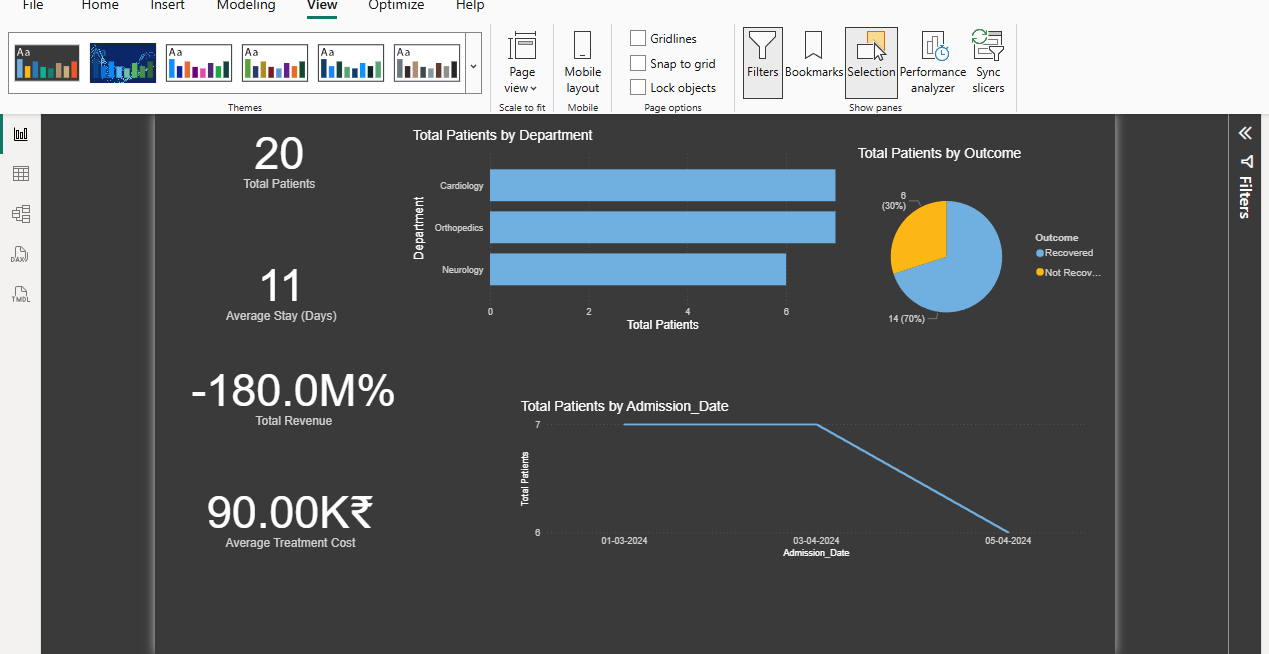

This screenshot's page, from the dashboard's own definition file:
{"tool":"powerbi","page":{"name":"Page 1","canvas":[1280,720],"ordinal":0},"visuals":[{"type":"card","fields":{"Values":["Sheet1.Total Patients"]},"box":[10.6,0,309.9,112.7],"z":0},{"type":"card","fields":{"Values":["Sheet1.Total Revenue"]},"box":[24.6,316.9,322.2,109.2],"z":1},{"type":"card","fields":{"Values":["Sheet1.Average Stay (Days)"]},"box":[10.6,179.6,315.2,103.9],"z":3},{"type":"card","fields":{"Values":["Sheet1.Average Treatment Cost"]},"box":[24.6,471.9,313.4,125],"z":4},{"type":"clusteredBarChart","fields":{"Category":["Sheet1.Department"],"Y":["Sheet1.Total Patients"]},"box":[338.4,17.1,577.6,276.8],"z":5},{"type":"pieChart","fields":{"Category":["Sheet1.Outcome"],"Y":["Sheet1.Total Patients"]},"box":[931.4,41,348.6,276.8],"z":6},{"type":"lineChart","fields":{"Category":["Sheet1.Admission_Date"],"Y":["Sheet1.Total Patients"]},"box":[482.4,378.5,762.4,218.3],"z":7}]}

Visuals, with their boxes on the page's 1280x720 design canvas (x1, y1, x2, y2). These are canvas units, not pixel positions in the 1269x654 screenshot, which may show the page scaled, cropped or inside an application window:
card - Sheet1.Total Patients: box(11, 0, 320, 113)
card - Sheet1.Total Revenue: box(25, 317, 347, 426)
card - Sheet1.Average Stay (Days): box(11, 180, 326, 284)
card - Sheet1.Average Treatment Cost: box(25, 472, 338, 597)
clusteredBarChart - Sheet1.Department x Sheet1.Total Patients: box(338, 17, 916, 294)
pieChart - Sheet1.Outcome x Sheet1.Total Patients: box(931, 41, 1280, 318)
lineChart - Sheet1.Admission_Date x Sheet1.Total Patients: box(482, 378, 1245, 597)
